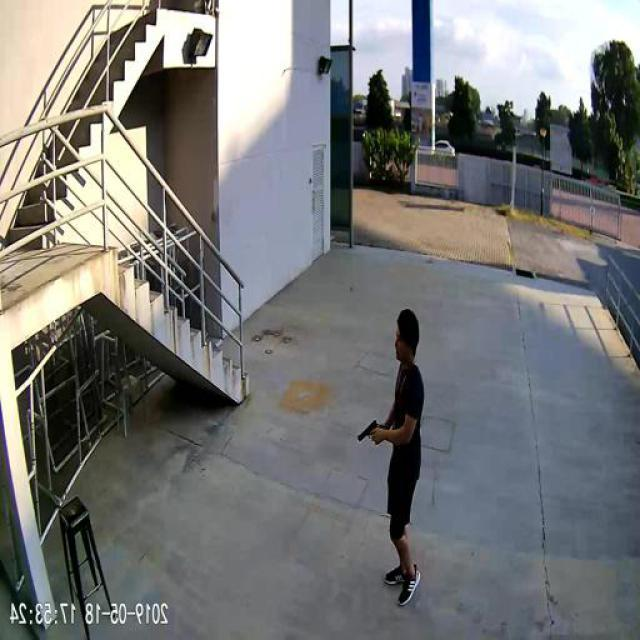Gun: (358, 414, 382, 442)
